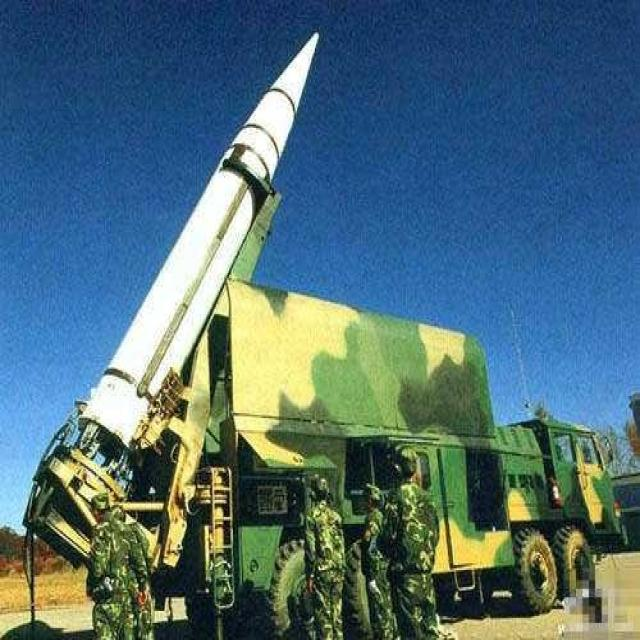missile: (62, 29, 320, 493)
